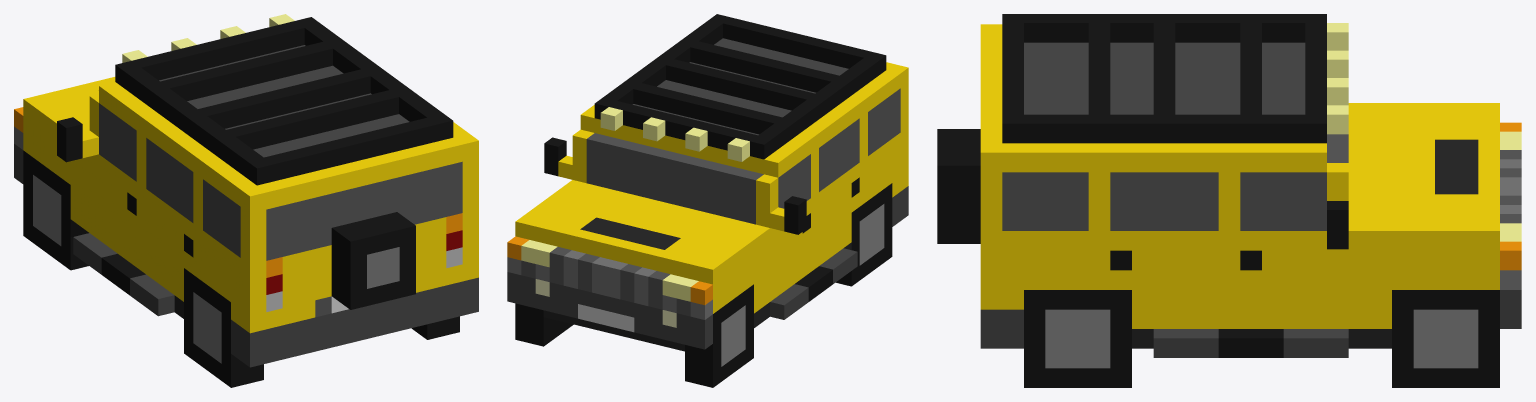
The model's file is Hummer.vox.obj.
The picture shows the model from 3 angles, left to right: view 1: azimuth 30°, elevation 25°; view 2: azimuth 150°, elevation 25°; view 3: azimuth 270°, elevation 25°; orthographic projection. The views are drawn at different scales.
Bounding box in the file's own units: 1.8 × 1.3 × 2.7.
1 material, 1 textured.
